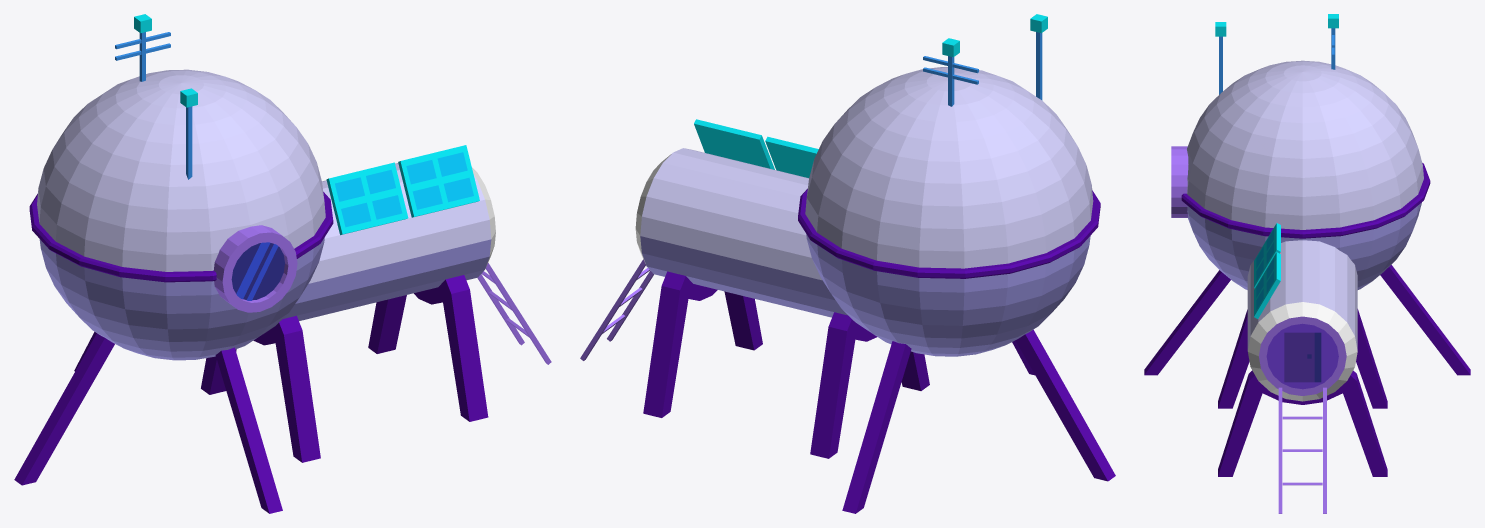
Rendered from Building_017.fbx.
3 views of the same model, side by side, from view 1: azimuth 30°, elevation 25°; view 2: azimuth 150°, elevation 25°; view 3: azimuth 270°, elevation 25° (orthographic). The views are drawn at different scales.
Visible parts, largest first — view 1: Building_017_hard; view 2: Building_017_hard; view 3: Building_017_hard.
Part boxes in pixels (left/top/right/bottom): Building_017_hard: left=14, top=14, right=551, bottom=513; Building_017_hard: left=580, top=14, right=1115, bottom=513; Building_017_hard: left=1144, top=14, right=1470, bottom=513.
Bounding box in the file's own units: 25.96 × 19.91 × 16.94.
